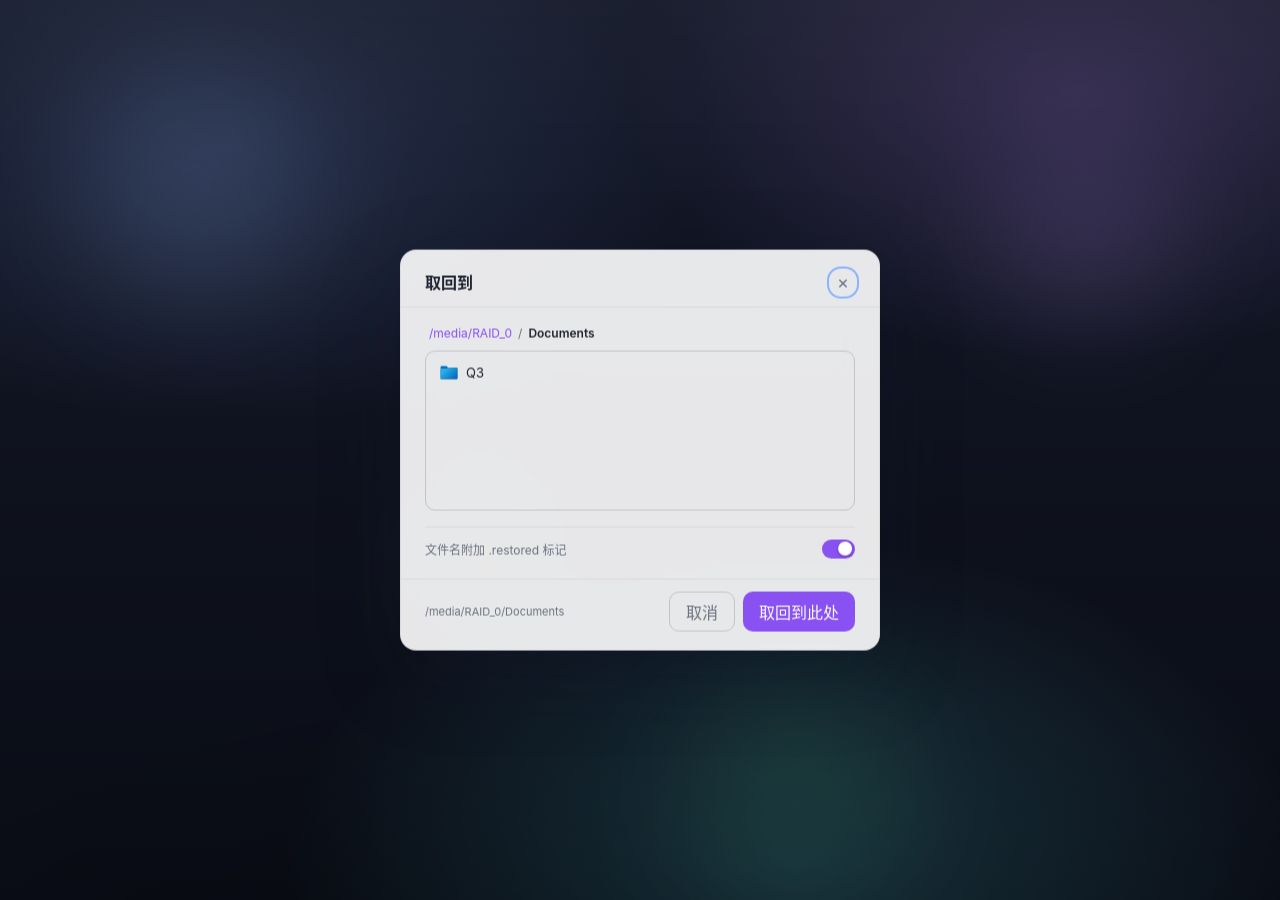
RestoreDestinationModal — drill-down navigation › lists only subdirectories (never files), sorted, and clicking one descends into it
Click the button with class "rdm-entry" at (449, 373), box [440,364,484,382]
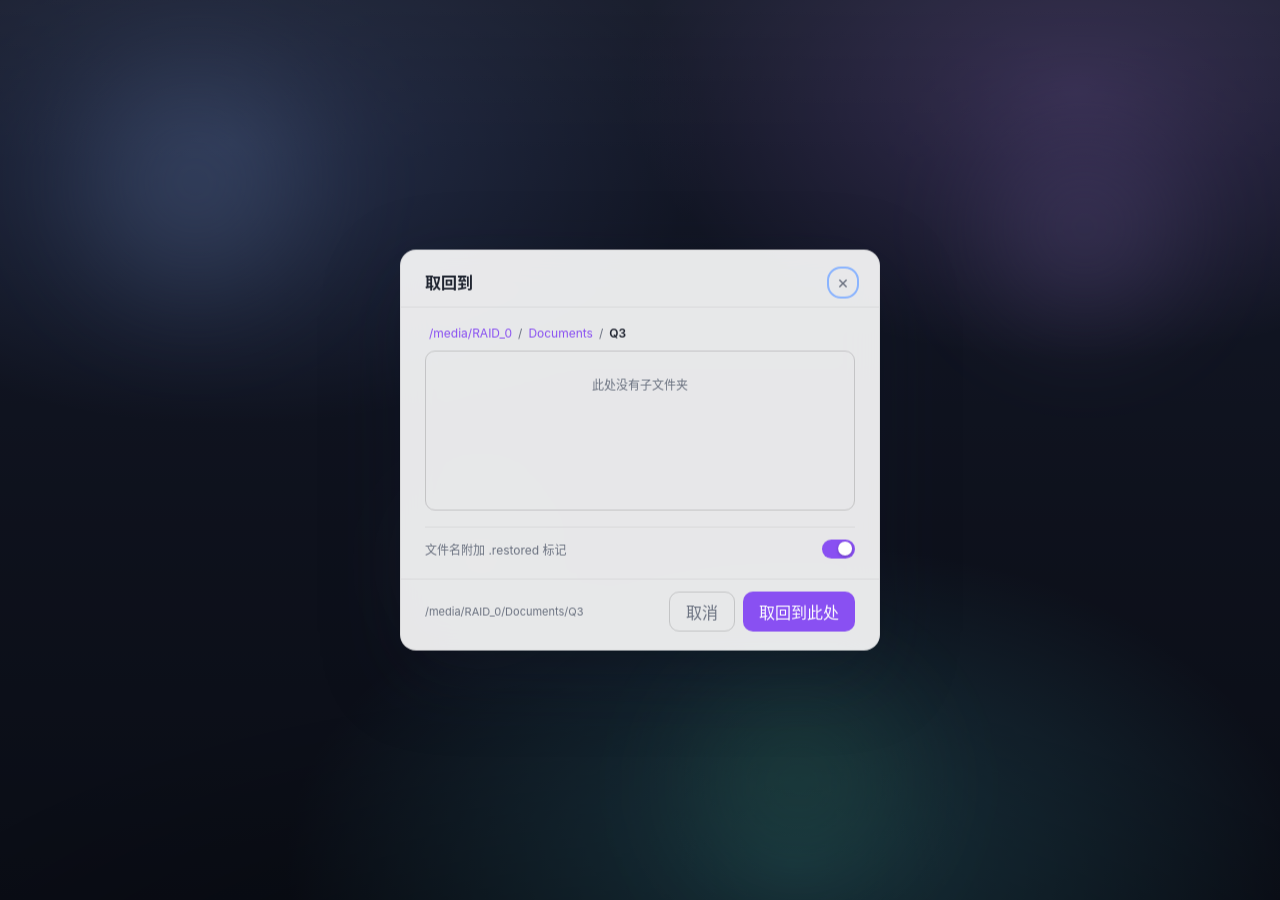
Expected: the text with class "rdm-current-dir" reads "/media/RAID_0/Documents/Q3", [425,604,583,618]
